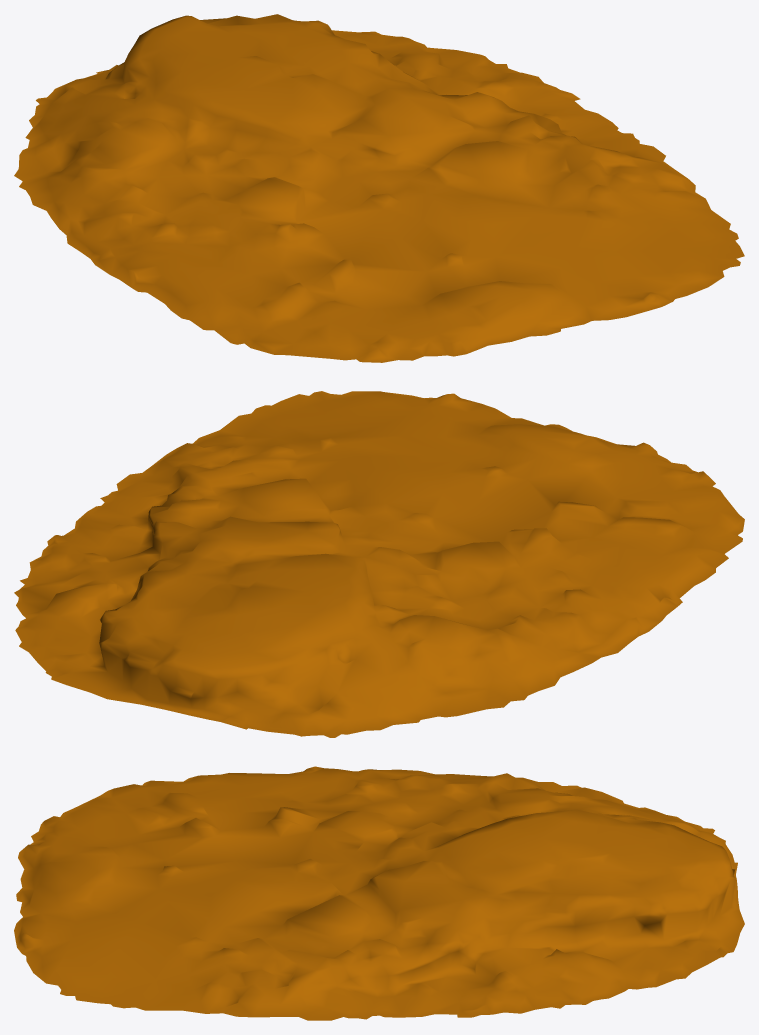
File: Mesh_Ground_04_AG.FBX
3 renders of one model, top to bottom at view 1: azimuth 30°, elevation 25°; view 2: azimuth 150°, elevation 25°; view 3: azimuth 270°, elevation 25°, orthographic. The views are drawn at different scales.
Parts seen in each view (by area): view 1: MESH_LOD0; view 2: MESH_LOD0; view 3: MESH_LOD0.
Part boxes in pixels (x1,y1,x2,y2): MESH_LOD0: (14,14,744,362); MESH_LOD0: (14,391,744,737); MESH_LOD0: (14,766,744,1020).
Size of what is drawn, in the model's own units: 85.64 by 7.72 by 106.
